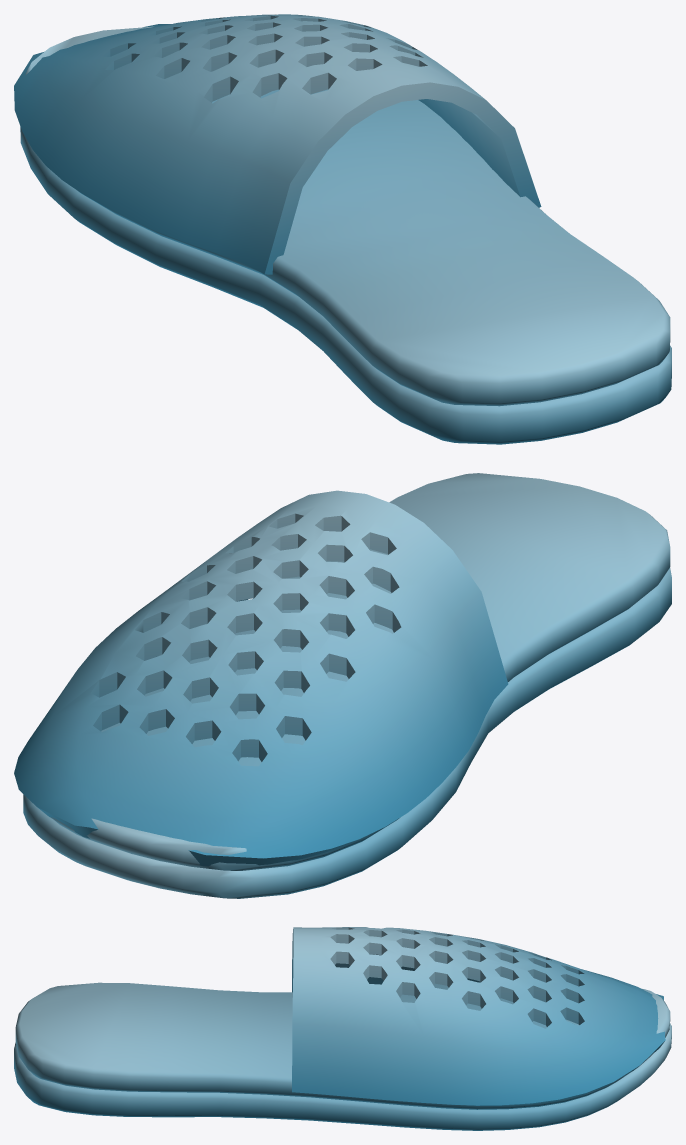
File: dep_to_ong.glb
3 views of the same model, one above another, from view 1: azimuth 30°, elevation 25°; view 2: azimuth 150°, elevation 25°; view 3: azimuth 270°, elevation 25° (orthographic). The views are drawn at different scales.
Parts seen in each view (by area): view 1: dep_to_ong; view 2: dep_to_ong; view 3: dep_to_ong.
Boxes of the visible parts, x1=… form: dep_to_ong: x1=14, y1=14, x2=671, y2=444; dep_to_ong: x1=14, y1=473, x2=671, y2=898; dep_to_ong: x1=14, y1=927, x2=671, y2=1130.
Bounding box in the file's own units: 0.7121 × 0.378 × 1.6.
1 material, 1 textured.
